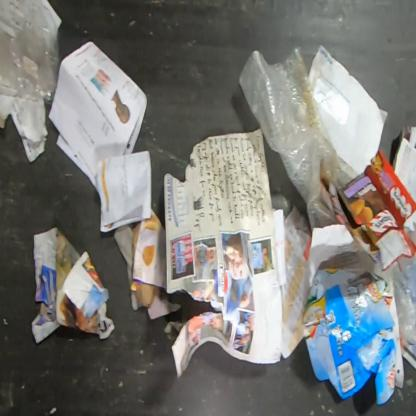cardboard: (303, 267, 396, 406), (322, 148, 415, 272), (393, 126, 415, 207)
rigid_plastic: (0, 1, 60, 105)
soft_plastic: (236, 46, 360, 228), (394, 251, 416, 343)
